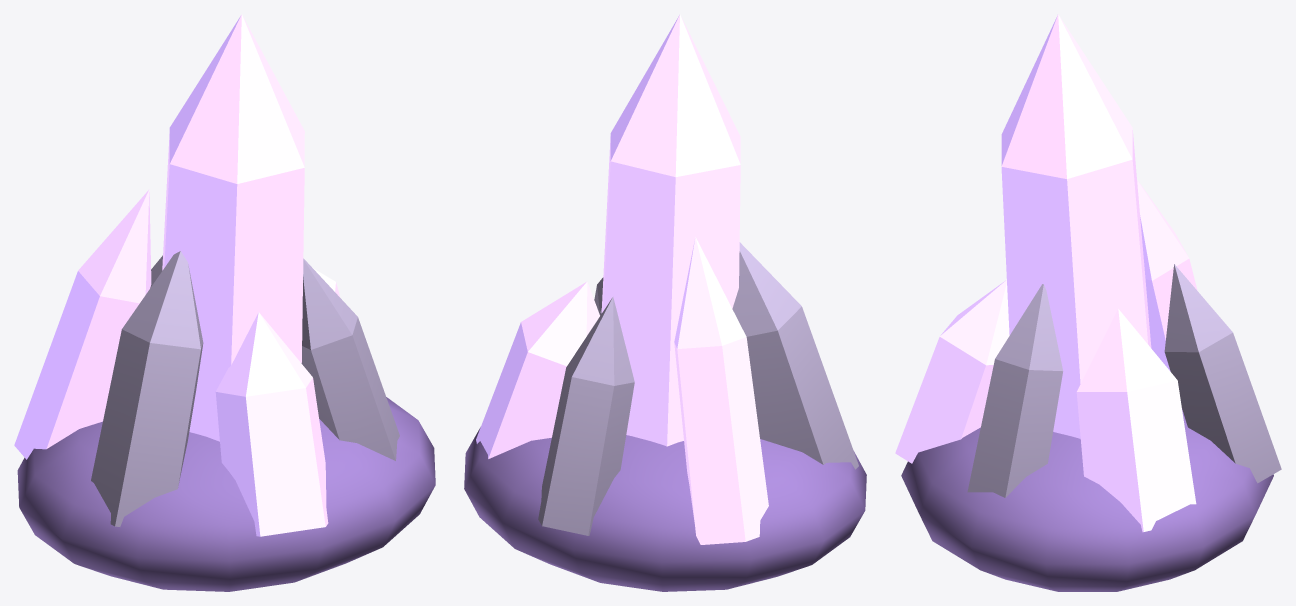
Rendered from bg_cry_lilac.glb.
The picture shows the model from 3 angles, left to right: view 1: azimuth 30°, elevation 25°; view 2: azimuth 150°, elevation 25°; view 3: azimuth 270°, elevation 25°; orthographic projection. The views are drawn at different scales.
Parts seen in each view (by area): view 1: M_Cry_lilac__c_lilac, M_Cry_lilac__c_rock, M_Cry_lilac__c2_lilac; view 2: M_Cry_lilac__c_lilac, M_Cry_lilac__c_rock, M_Cry_lilac__c2_lilac; view 3: M_Cry_lilac__c_lilac, M_Cry_lilac__c_rock, M_Cry_lilac__c2_lilac.
Part boxes in pixels (x1,y1,x2,y2): M_Cry_lilac__c_lilac: [14, 14, 340, 536]; M_Cry_lilac__c_rock: [17, 397, 435, 591]; M_Cry_lilac__c2_lilac: [91, 251, 399, 526]; M_Cry_lilac__c_lilac: [476, 14, 768, 544]; M_Cry_lilac__c_rock: [464, 427, 866, 591]; M_Cry_lilac__c2_lilac: [538, 242, 858, 535]; M_Cry_lilac__c_lilac: [895, 14, 1197, 532]; M_Cry_lilac__c_rock: [901, 409, 1273, 591]; M_Cry_lilac__c2_lilac: [967, 264, 1281, 497].
Bounding box in the file's own units: 2.13 × 3.02 × 1.97.
